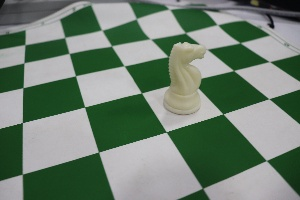white_horse: (163, 31, 207, 119)
